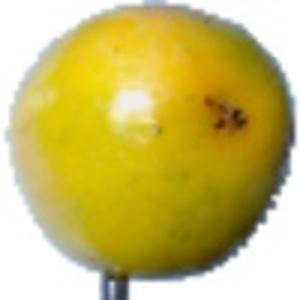maracujá: (5, 1, 299, 300)
